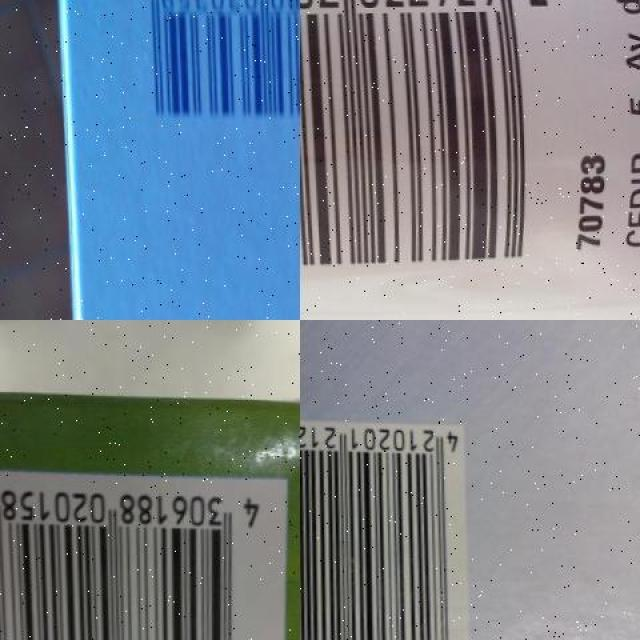Barcode: (299, 0, 561, 289), (0, 468, 291, 640), (300, 413, 468, 640), (131, 0, 300, 140)
